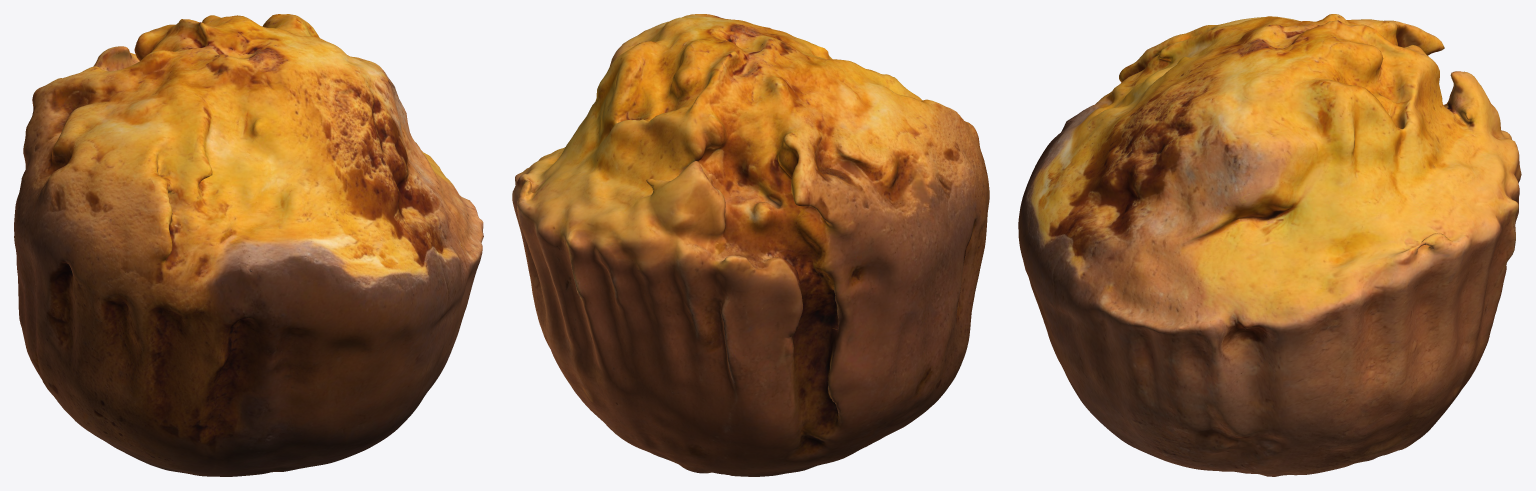
File: donut.glb
The picture shows the model from 3 angles, left to right: view 1: azimuth 30°, elevation 25°; view 2: azimuth 150°, elevation 25°; view 3: azimuth 270°, elevation 25°; orthographic projection. The views are drawn at different scales.
Bounding box in the file's own units: 1.96 × 1.76 × 1.99.
1 material, 1 textured.
